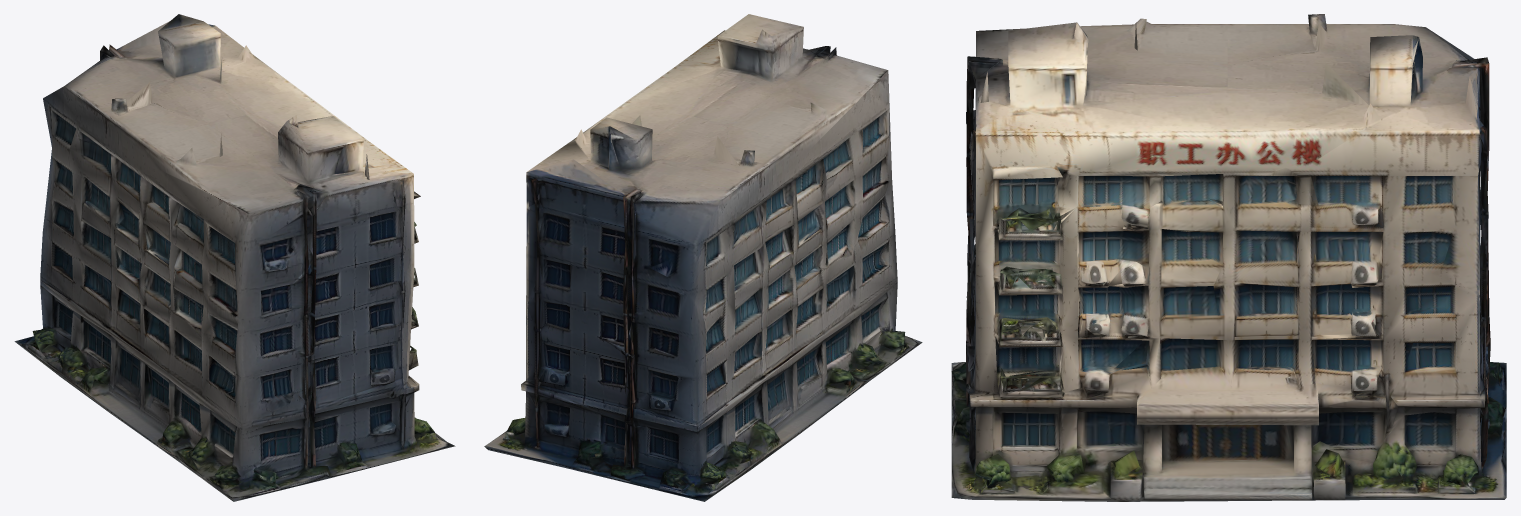
Rendered from office-facade.glb.
3 renders of one model, left to right at view 1: azimuth 30°, elevation 25°; view 2: azimuth 150°, elevation 25°; view 3: azimuth 270°, elevation 25°, orthographic. The views are drawn at different scales.
Visible parts, largest first — view 1: tripo_node_60e25b81-e60a-480e-8cf6-9d1e817821d8; view 2: tripo_node_60e25b81-e60a-480e-8cf6-9d1e817821d8; view 3: tripo_node_60e25b81-e60a-480e-8cf6-9d1e817821d8.
Part boxes in pixels (<box>): tripo_node_60e25b81-e60a-480e-8cf6-9d1e817821d8: <box>14,14,455,501</box>; tripo_node_60e25b81-e60a-480e-8cf6-9d1e817821d8: <box>484,14,922,501</box>; tripo_node_60e25b81-e60a-480e-8cf6-9d1e817821d8: <box>951,14,1506,501</box>.
Size of the model in its own units: 0.5919 by 0.818 by 1.
Materials: 1 (1 with a texture image).
